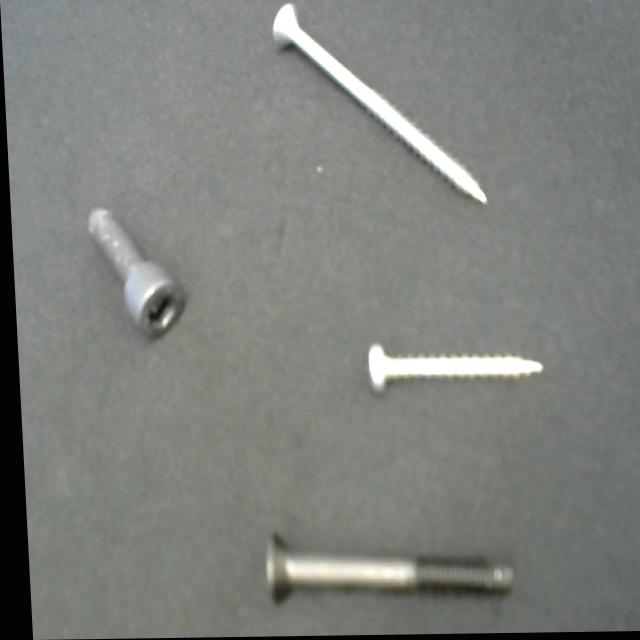FlatHeadSocketScrew: (253, 526, 509, 613)
SheetMetalScrew: (358, 338, 552, 407)
SocketHeadCapScrew: (77, 195, 188, 350)
WoodScrew: (257, 0, 499, 231)
